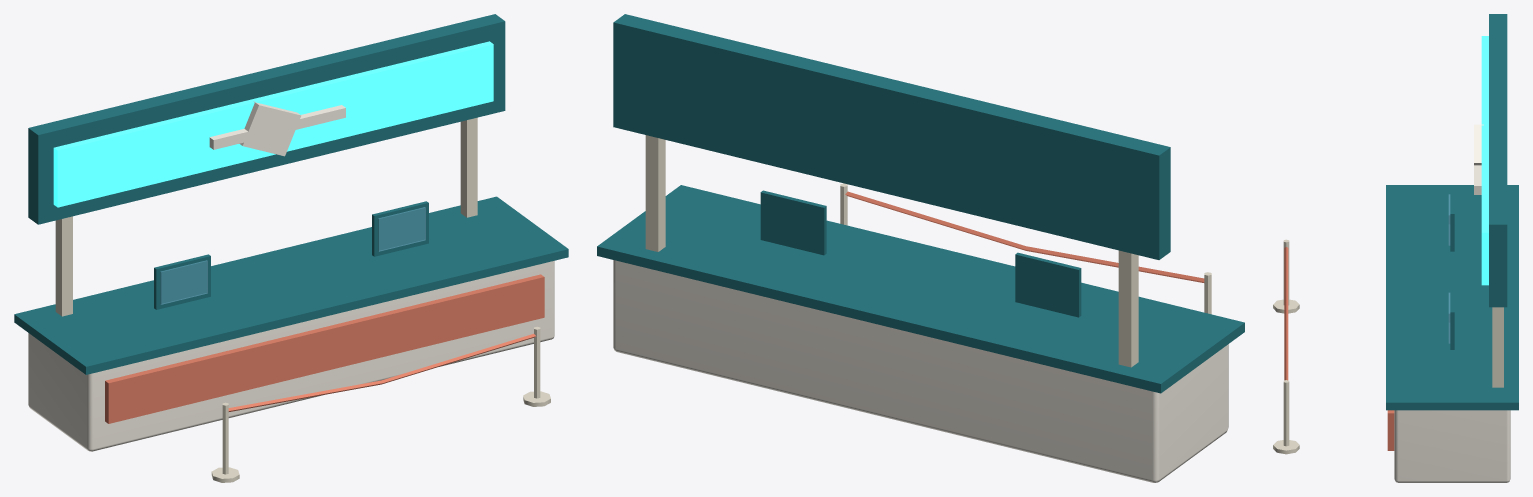
File: checkin_counter.glb
3 views of the same model, side by side, from view 1: azimuth 30°, elevation 25°; view 2: azimuth 150°, elevation 25°; view 3: azimuth 270°, elevation 25° (orthographic). The views are drawn at different scales.
Parts seen in each view (by area): view 1: checkin_counter; view 2: checkin_counter; view 3: checkin_counter.
Part boxes in pixels (bbox=[...]): checkin_counter: bbox=[14, 14, 568, 482]; checkin_counter: bbox=[597, 14, 1244, 482]; checkin_counter: bbox=[1273, 14, 1518, 482].
Bounding box in the file's own units: 6.2 × 3.46 × 2.96.
